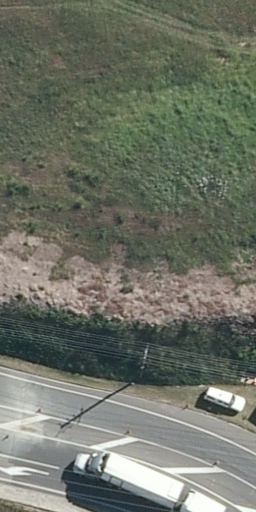DT: (131, 340, 158, 379)
